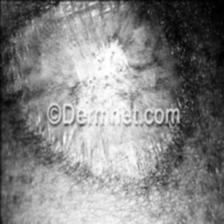Non-Cancerous Skin Condition: (0, 0, 224, 99), (33, 126, 207, 224)
